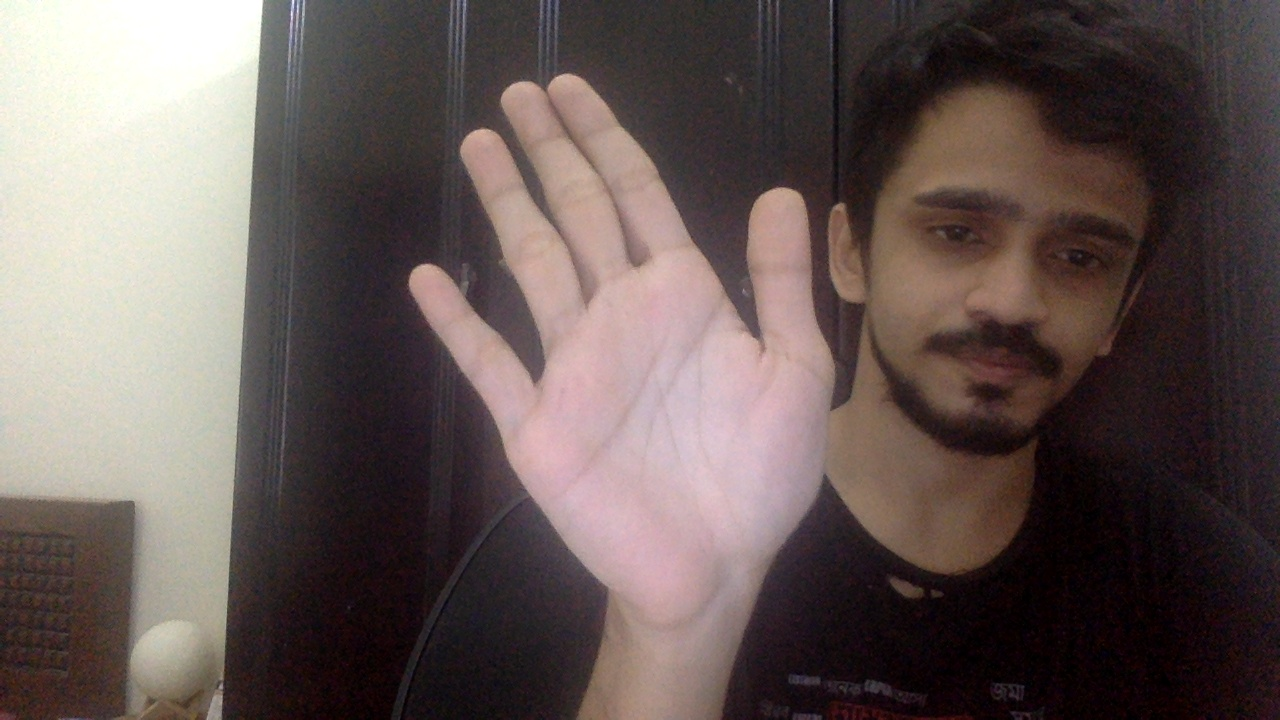stop: (410, 71, 835, 621)
